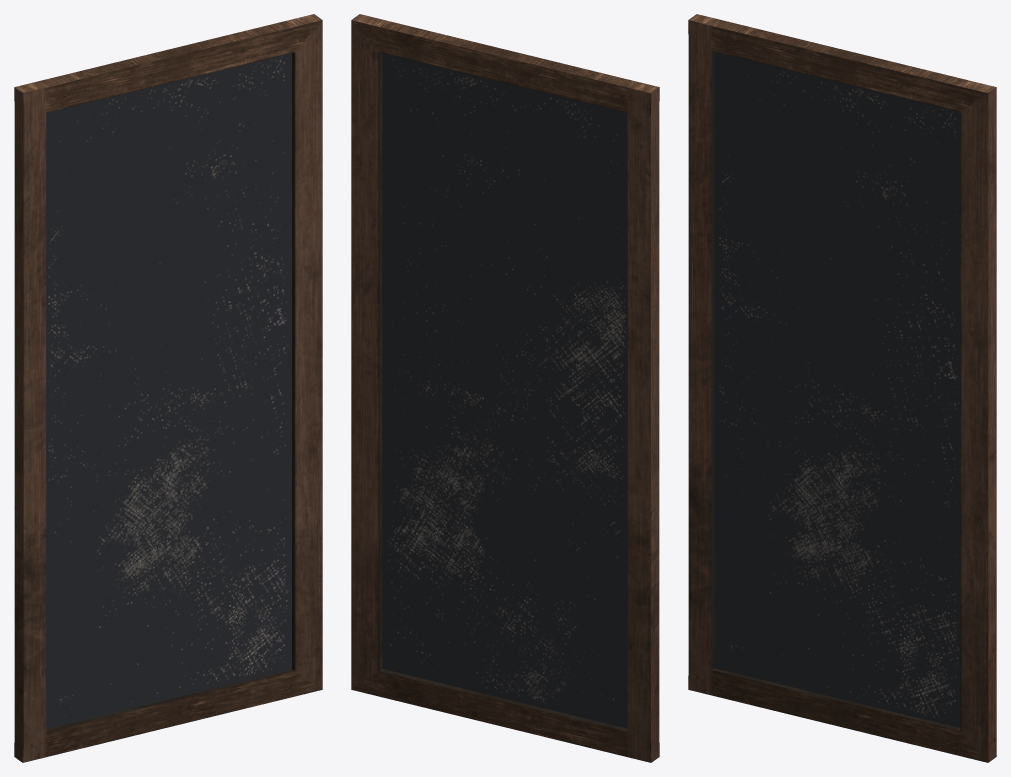
The model's file is Bookshelf_Door_L.fbx.
3 renders of one model, left to right at view 1: azimuth 30°, elevation 25°; view 2: azimuth 150°, elevation 25°; view 3: azimuth 330°, elevation 25°, orthographic.
Parts seen in each view (by area): view 1: Door_L; view 2: Door_L; view 3: Door_L.
Boxes of the visible parts, <box> form: Door_L: <box>14,14,322,762</box>; Door_L: <box>351,14,659,762</box>; Door_L: <box>688,14,996,762</box>.
Bounding box in the file's own units: 338 × 721 × 16.63.
Materials: 1 (1 with a texture image).
